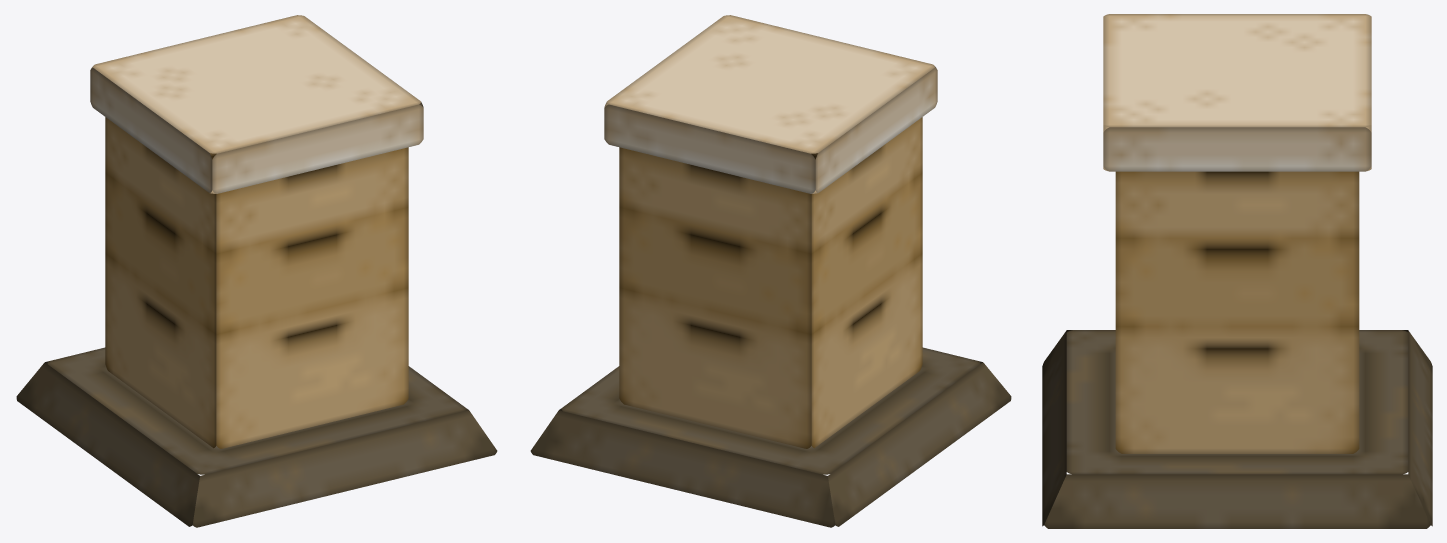
The model's file is Bee_Box.fbx.
3 renders of one model, left to right at view 1: azimuth 30°, elevation 25°; view 2: azimuth 150°, elevation 25°; view 3: azimuth 270°, elevation 25°, orthographic. The views are drawn at different scales.
Visible parts, largest first — view 1: box, platform; view 2: box, platform; view 3: box, platform.
Boxes of the visible parts, bbox=[...] form: box: bbox=[90, 15, 423, 448]; platform: bbox=[16, 347, 497, 527]; box: bbox=[604, 15, 937, 448]; platform: bbox=[530, 347, 1011, 527]; box: bbox=[1103, 14, 1371, 453]; platform: bbox=[1042, 330, 1432, 528].
Bounding box in the file's own units: 100 × 106 × 100.
Materials: 1 (1 with a texture image).
